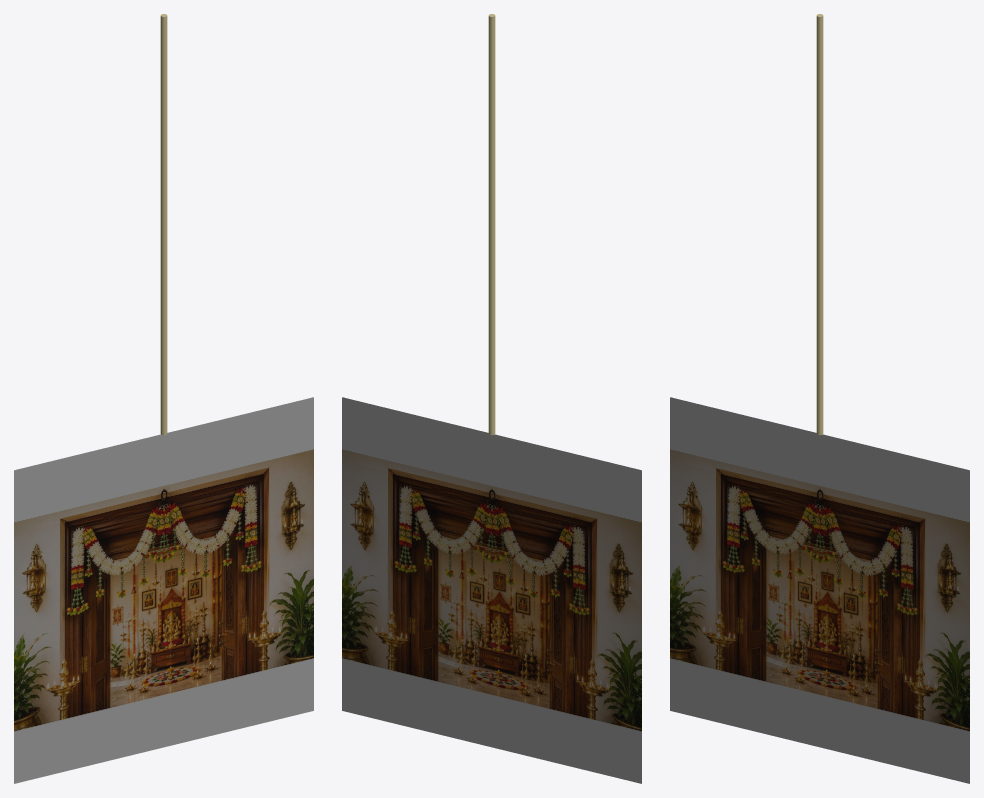
The picture shows the model from 3 angles, left to right: view 1: azimuth 30°, elevation 25°; view 2: azimuth 150°, elevation 25°; view 3: azimuth 330°, elevation 25°; orthographic projection.
Visible parts, largest first — view 1: photo, string; view 2: photo, string; view 3: photo, string.
Boxes of the visible parts, x1,y1,x2,y2 form: photo: [14, 397, 313, 783]; string: [160, 14, 167, 435]; photo: [342, 397, 641, 783]; string: [488, 14, 495, 435]; photo: [670, 397, 969, 783]; string: [816, 14, 823, 435].
Bounding box in the file's own units: 0.3 × 0.7 × 0.006.
Materials: 1 (1 with a texture image).
